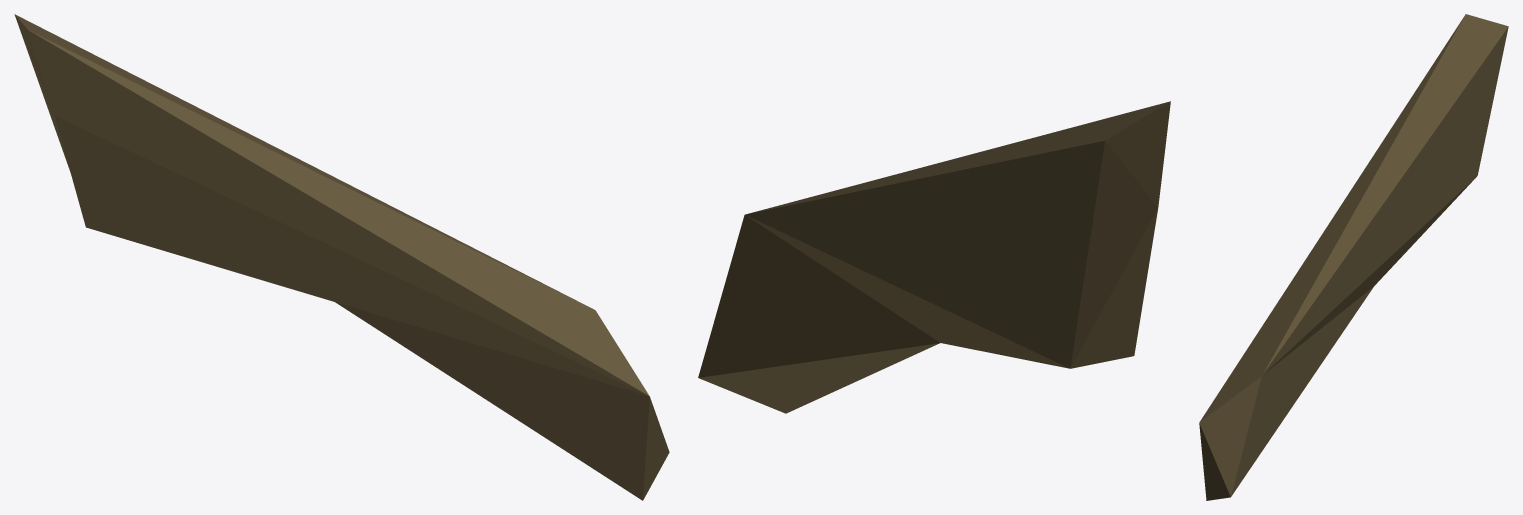
The model's file is ant-strip-middle-left.dae.
3 renders of one model, left to right at view 1: azimuth 30°, elevation 25°; view 2: azimuth 150°, elevation 25°; view 3: azimuth 270°, elevation 25°, orthographic. The views are drawn at different scales.
Parts seen in each view (by area): view 1: ant-tibia-strip-middle-left; view 2: ant-tibia-strip-middle-left; view 3: ant-tibia-strip-middle-left.
Part boxes in pixels (bbox=[...]): ant-tibia-strip-middle-left: bbox=[14, 14, 669, 500]; ant-tibia-strip-middle-left: bbox=[698, 101, 1170, 413]; ant-tibia-strip-middle-left: bbox=[1199, 14, 1508, 500].
Bounding box in the file's own units: 0.5474 × 0.4146 × 0.4874.
